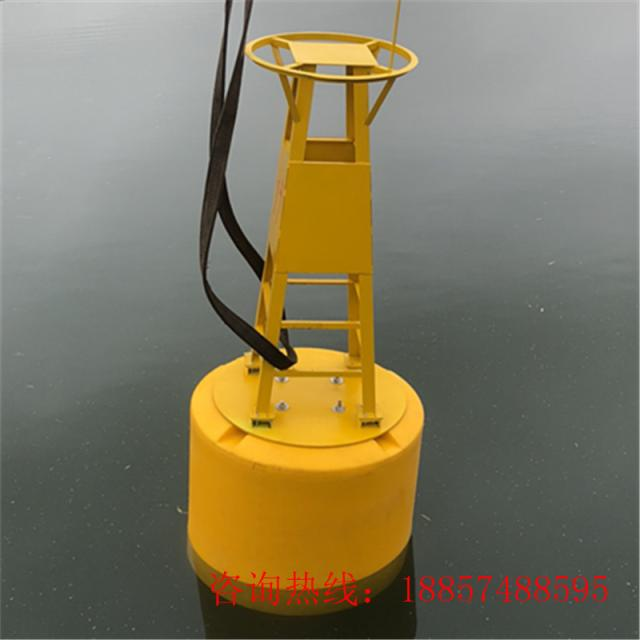buoy: (184, 21, 429, 598)
